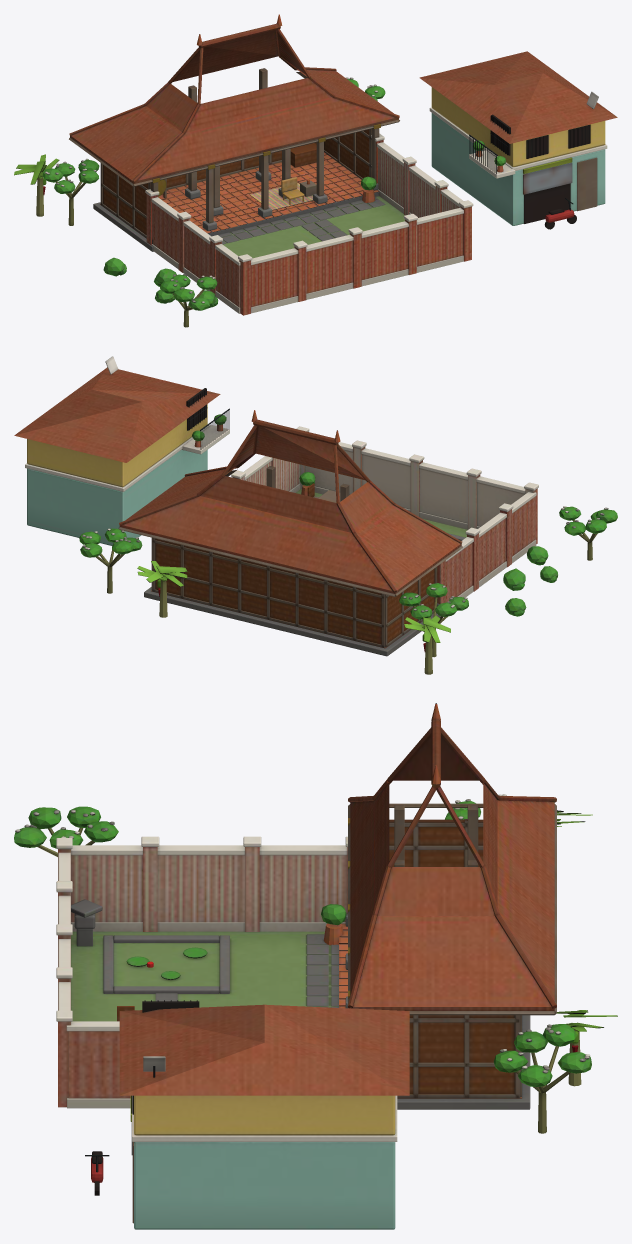
Rendered from valora-house-id.glb.
The picture shows the model from 3 angles, top to bottom: view 1: azimuth 30°, elevation 25°; view 2: azimuth 150°, elevation 25°; view 3: azimuth 270°, elevation 25°; orthographic projection. The views are drawn at different scales.
Visible parts, largest first — view 1: valora-house-id; view 2: valora-house-id; view 3: valora-house-id.
Part boxes in pixels (left/top/right/bottom): valora-house-id: left=14, top=14, right=617, bottom=327; valora-house-id: left=14, top=356, right=617, bottom=674; valora-house-id: left=14, top=703, right=617, bottom=1229.
Bounding box in the file's own units: 21.15 × 8.1 × 14.79.
28 materials, 28 textured.
